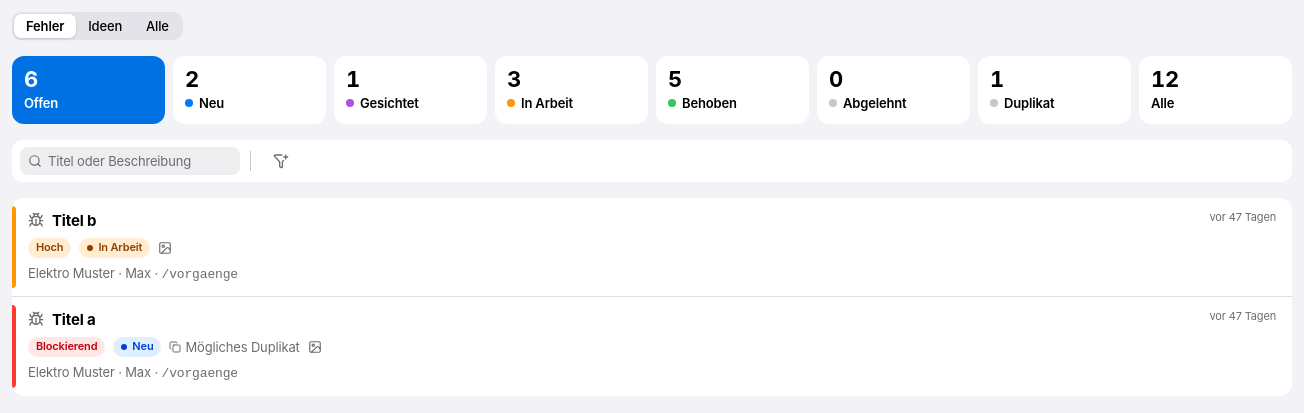
Scenario: FehlerberichtListe › lädt standardmäßig nur Fehler und setzt beim Reiter 'Ideen' den art-Filter inkl. Ideen-Labels
Expected: the text "Titel a" is shown, [52,309,96,331]
Click the button "Ideen" at (105, 26), box [76,14,134,38]
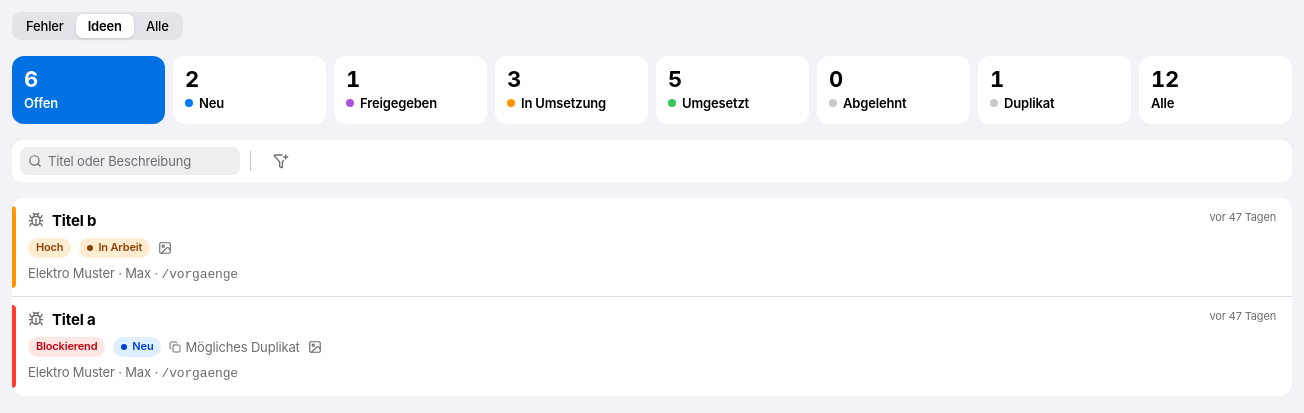
Expected: the button "1 Freigegeben" is shown, [334,56,487,124]
Expected: the button "5 Umgesetzt" is shown, [656,56,809,124]
Expected: the button "Gesichtet" is gone
